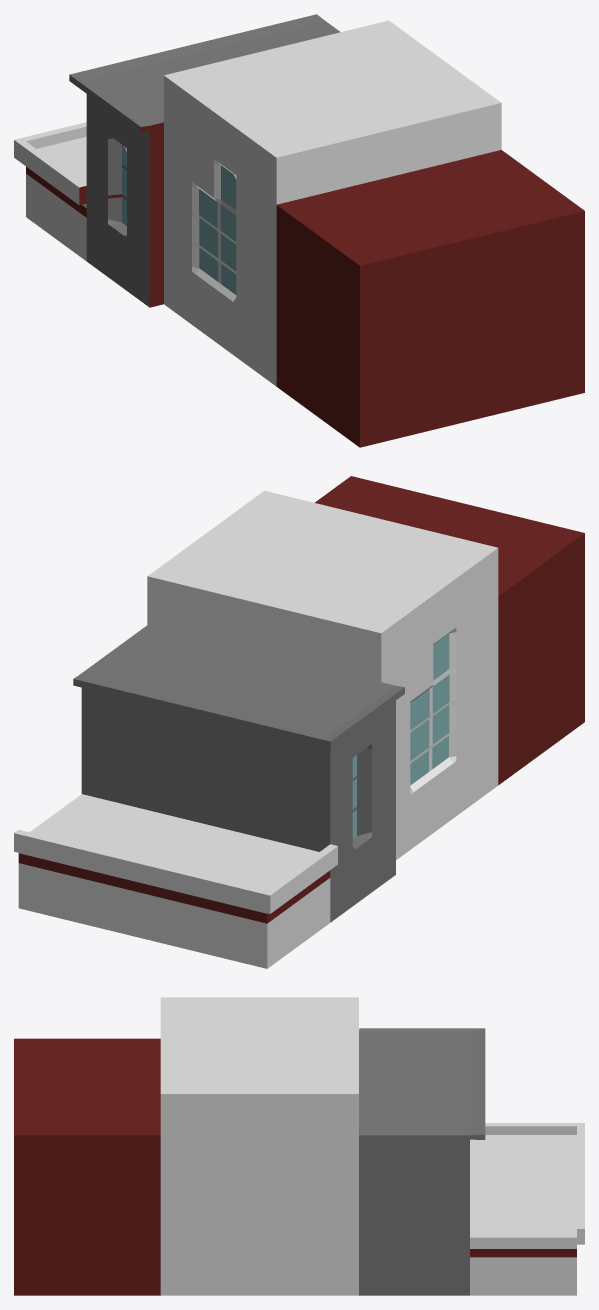
Rendered from simpleBuilding.fbx.
3 views of the same model, one above another, from view 1: azimuth 30°, elevation 25°; view 2: azimuth 150°, elevation 25°; view 3: azimuth 270°, elevation 25° (orthographic). The views are drawn at different scales.
Parts seen in each view (by area): view 1: Cube; view 2: Cube; view 3: Cube.
Boxes of the visible parts, x1,y1,x2,y2 form: Cube: (14,14,584,447); Cube: (14,476,584,968); Cube: (14,997,584,1295).
Bounding box in the file's own units: 1238 × 1092 × 2806.
